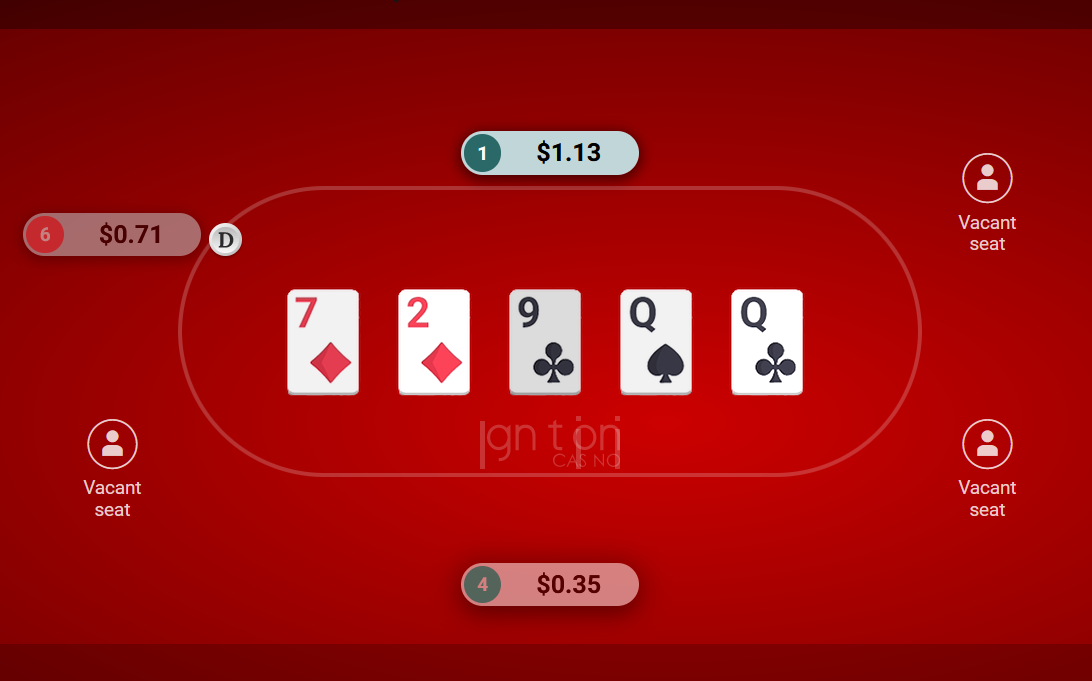2D: (394, 285, 475, 396)
7D: (283, 285, 364, 396)
9C: (505, 285, 586, 396)
QC: (727, 285, 808, 396)
QS: (616, 285, 697, 396)
